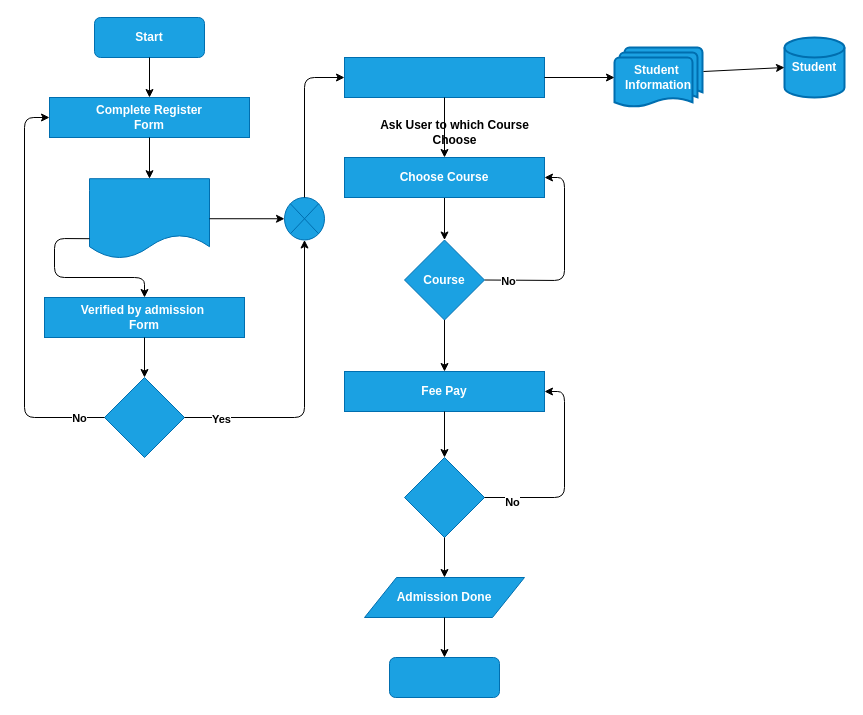
This 863x715 diagram has some shape labels left out. Here are the shapes that lost their labels. From the top down, the centre of each, then its label:
point 444,77: Sending From to Corresponding department
point 149,218: Registration Form
point 144,417: Verified
point 444,497: fee Paid
point 444,677: Stop
